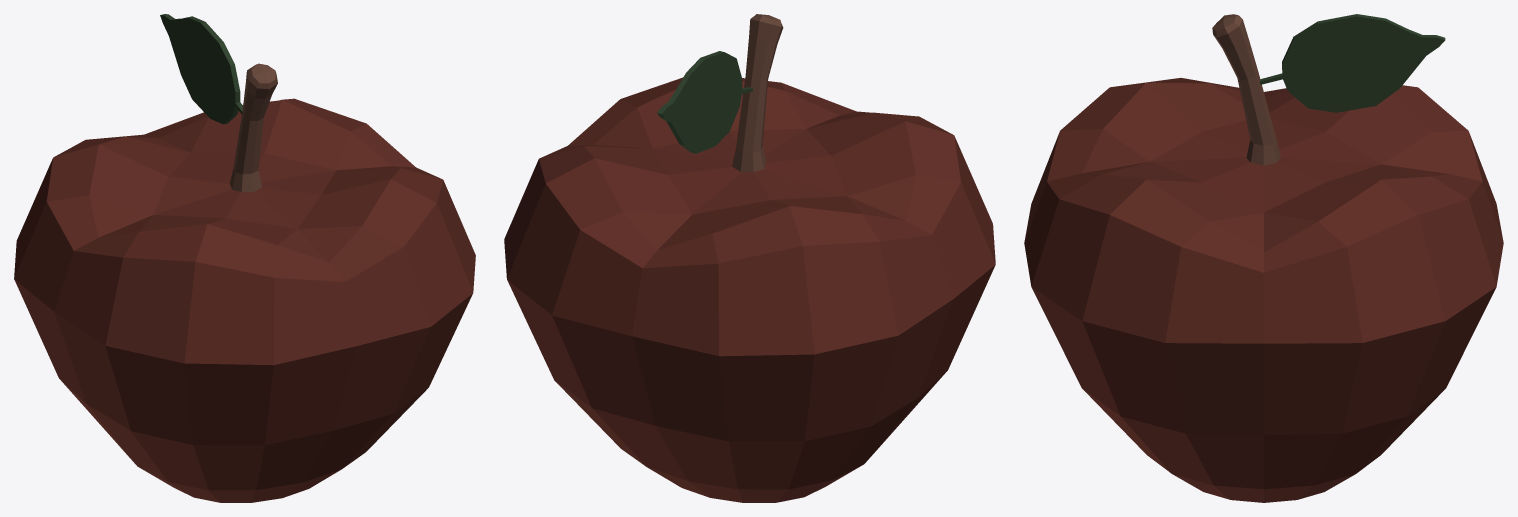
File: Apple_Crop.gltf
3 renders of one model, left to right at view 1: azimuth 30°, elevation 25°; view 2: azimuth 150°, elevation 25°; view 3: azimuth 270°, elevation 25°, orthographic. The views are drawn at different scales.
Parts seen in each view (by area): view 1: Apple_Crop; view 2: Apple_Crop; view 3: Apple_Crop.
Boxes of the visible parts, x1,y1,x2,y2 form: Apple_Crop: [14, 14, 475, 502]; Apple_Crop: [504, 14, 995, 502]; Apple_Crop: [1024, 14, 1503, 502].
Size of the model in its own units: 0.1575 by 0.168 by 0.1583.
